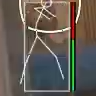hacks_1: (19, 1, 77, 93)
